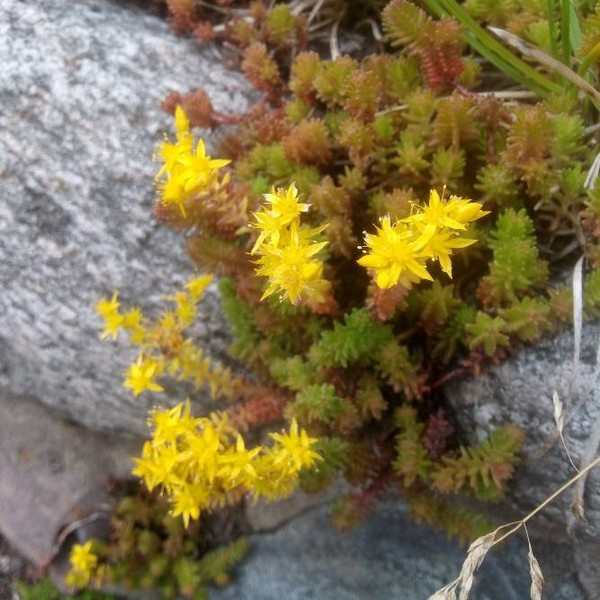obstacle: (148, 121, 532, 332), (88, 280, 364, 548)
